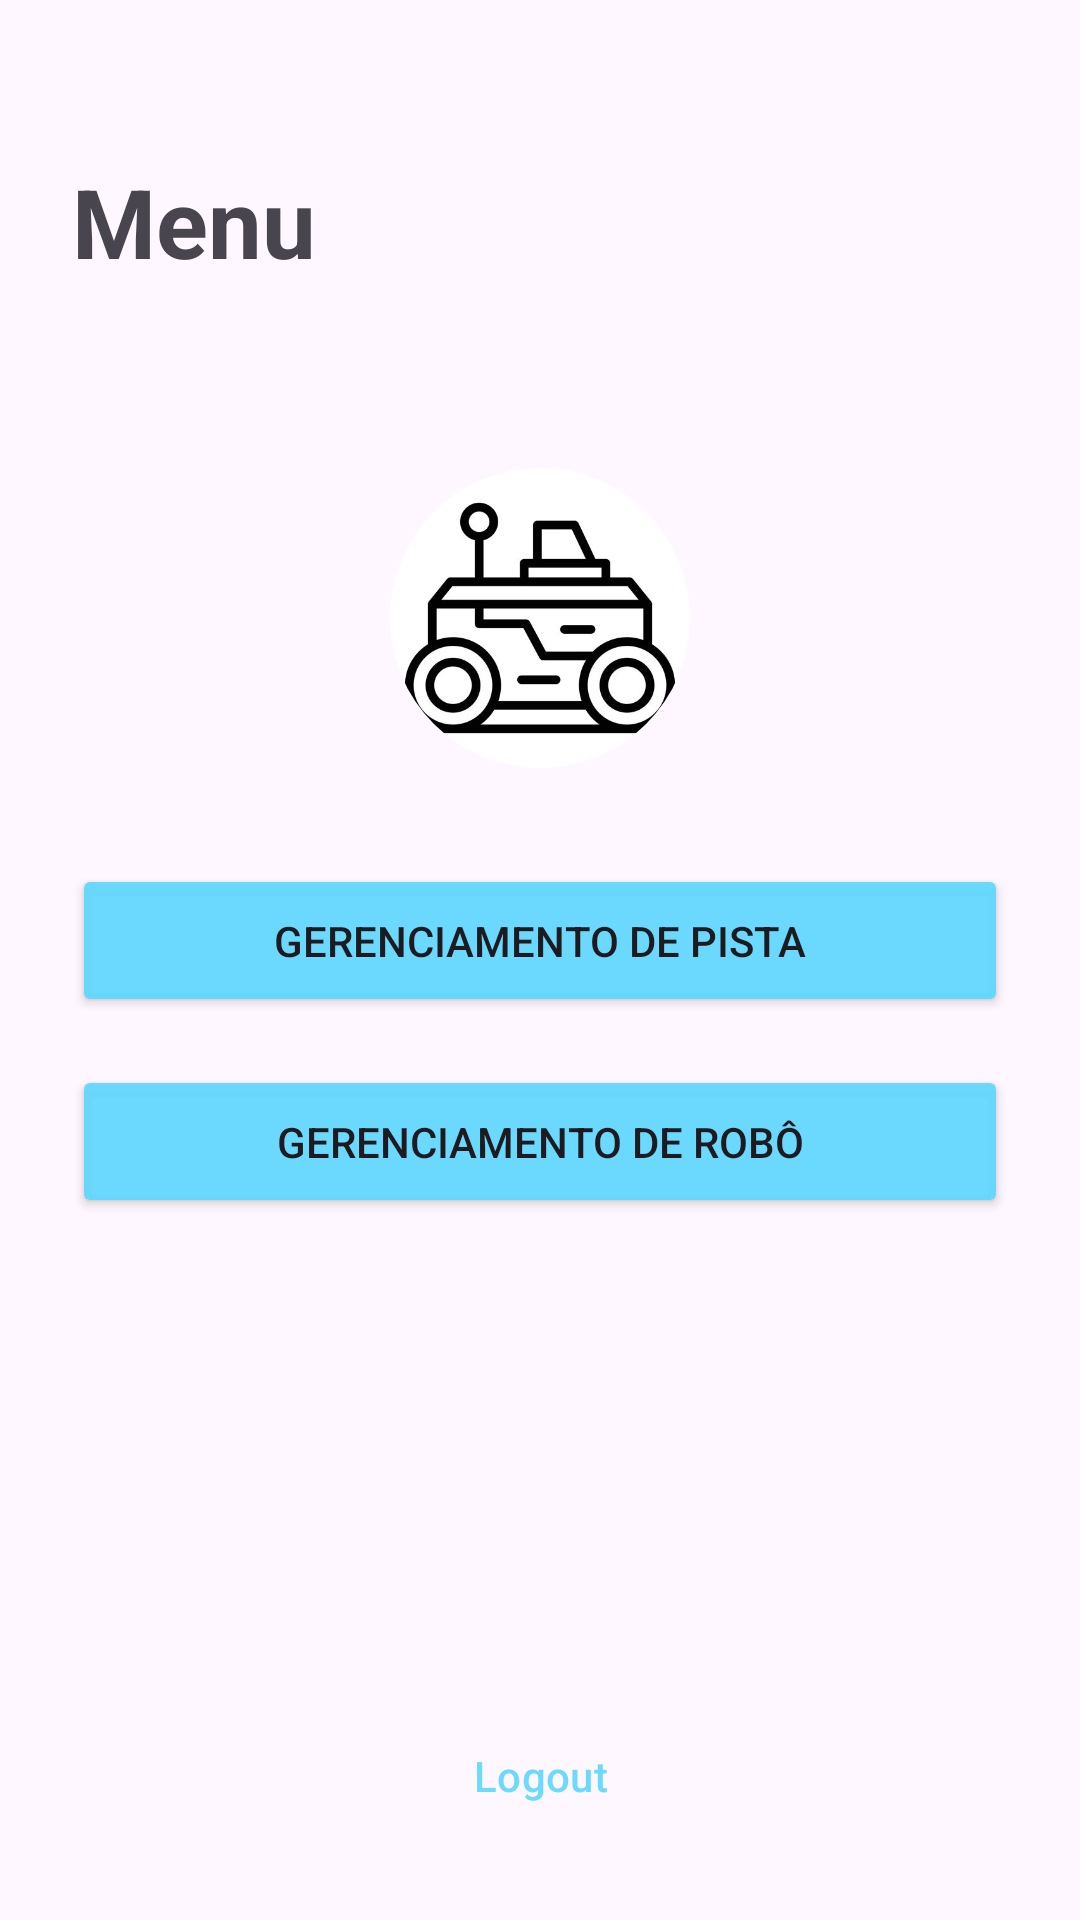

Point at icon controls on the screen. Image size 1080 × 1920, points as (x,y).
robot: (540,618)
